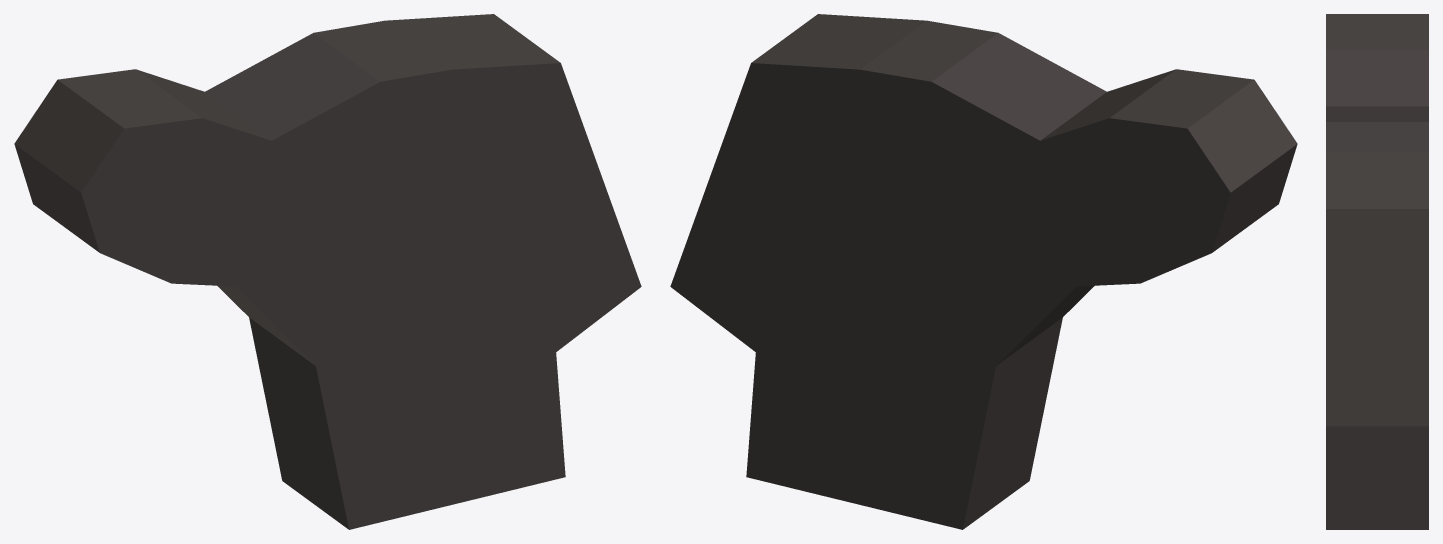
The model's file is Pistol2_02_4.fbx.
The picture shows the model from 3 angles, left to right: view 1: azimuth 30°, elevation 25°; view 2: azimuth 150°, elevation 25°; view 3: azimuth 270°, elevation 25°; orthographic projection. The views are drawn at different scales.
Parts seen in each view (by area): view 1: Pistol2_02_4; view 2: Pistol2_02_4; view 3: Pistol2_02_4.
Part boxes in pixels (bbox=[...]): Pistol2_02_4: bbox=[14, 14, 641, 529]; Pistol2_02_4: bbox=[670, 14, 1297, 529]; Pistol2_02_4: bbox=[1326, 14, 1428, 529].
Size of the model in its own units: 0.0329 by 0.0256 by 0.00681.
